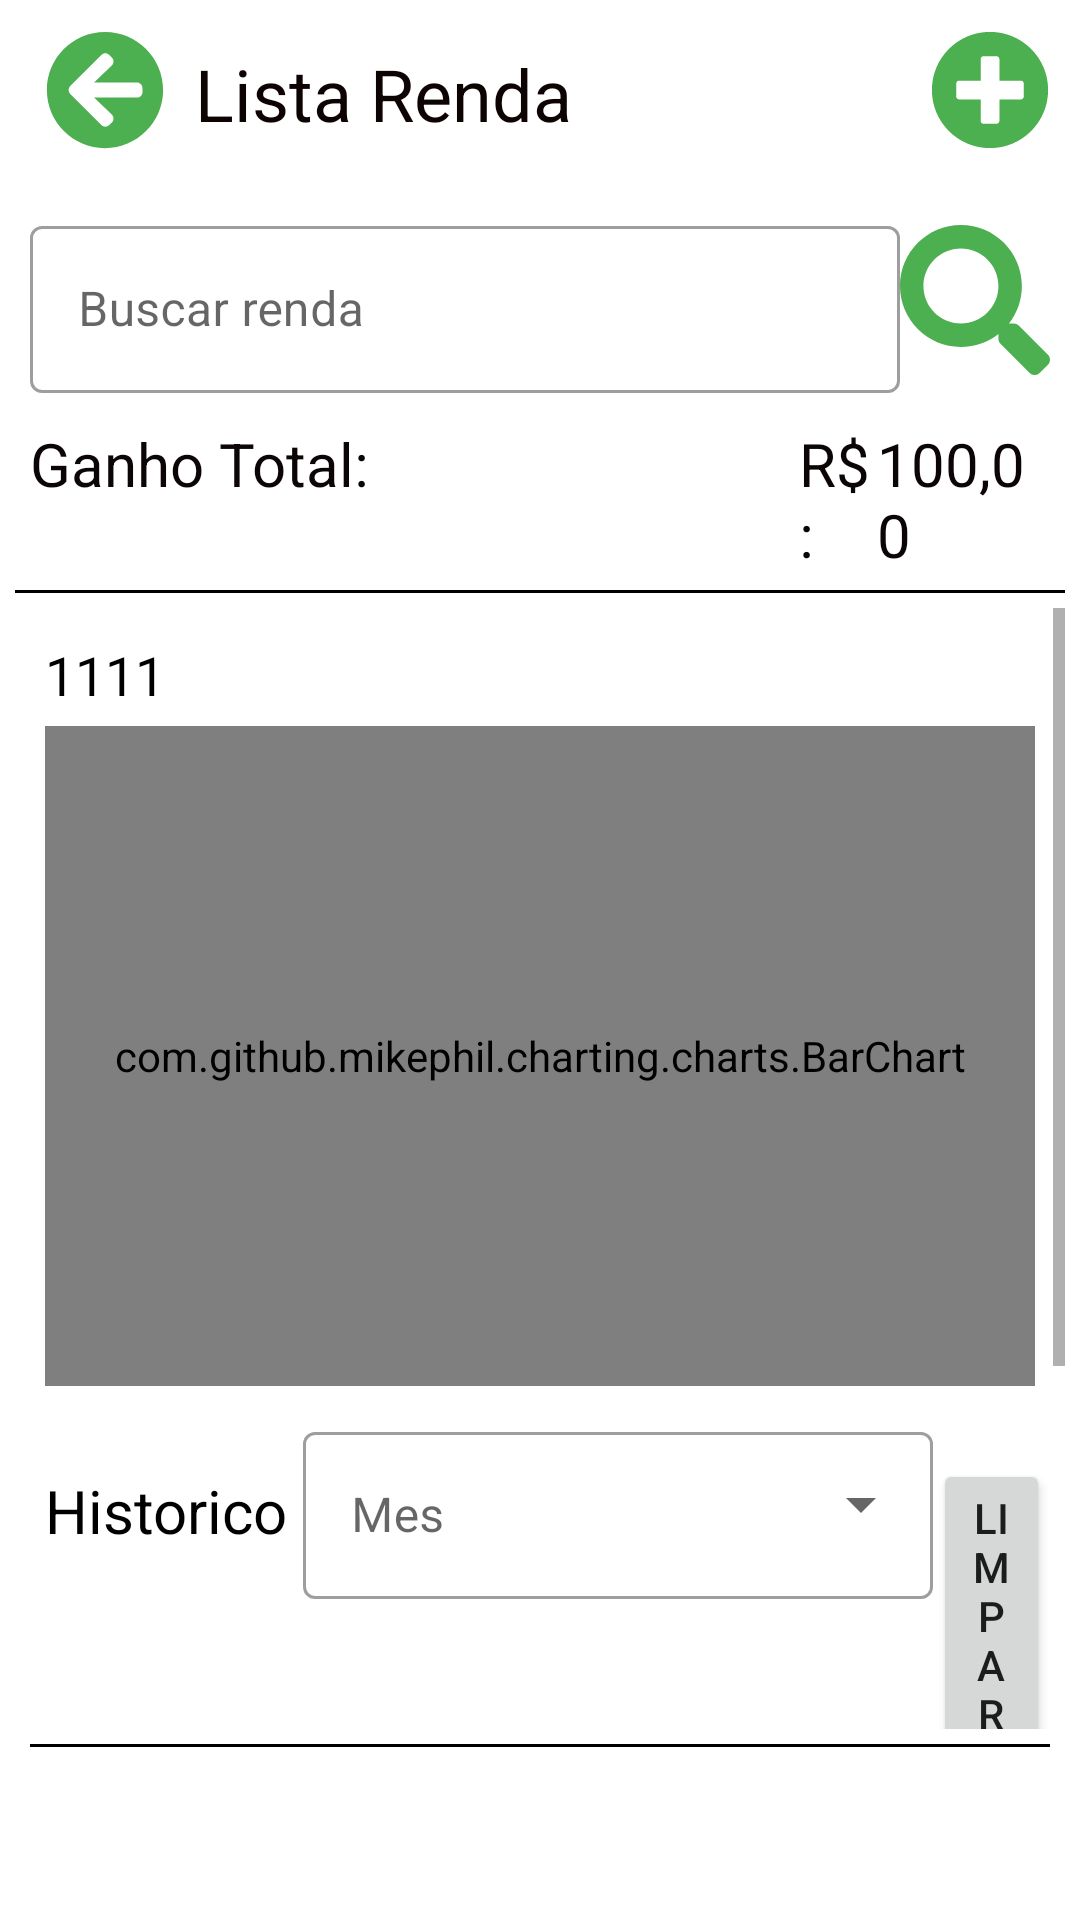

Icons on this 1080×1920 Android screen, each with the point to tap as (x,y):
add: (990,90)
voltar: (105,90)
